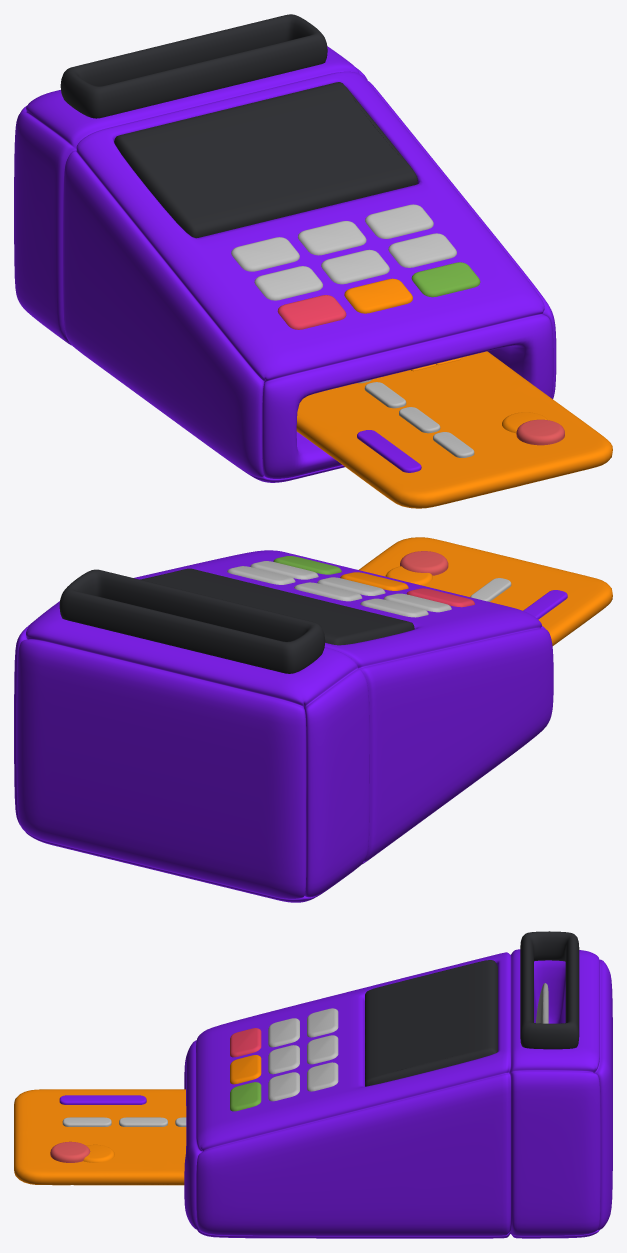
Rendered from secured-payment-animated-3d-icon-477821294128.glb.
The picture shows the model from 3 angles, top to bottom: view 1: azimuth 30°, elevation 25°; view 2: azimuth 150°, elevation 25°; view 3: azimuth 270°, elevation 25°; orthographic projection. The views are drawn at different scales.
Visible parts, largest first — view 1: Terminal, Screen.003, Card.001, Holder, Plane.016, Correction Button.002, Correction Button, Correction Button.001, Button 2.001, Button 5.002, Button 2, Button 5 (+4 smaller); view 2: Terminal, Holder, Card.001, Screen.003, Circle.004, Button 2.001, Button 2, Button 2.002, Correction Button.001, Correction Button.002, Button 5.002, Correction Button (+5 smaller); view 3: Terminal, Card.001, Screen.003, Holder, Plane.016, Plane.017, Correction Button.002, Correction Button.001, Button 2, Button 2.001, Button 2.002, Button 5.001 (+6 smaller).
Part boxes in pixels (x1,y1,x2,y2): Terminal: (14,46,556,482); Screen.003: (114,82,417,238); Card.001: (296,351,612,508); Holder: (60,14,327,118); Plane.016: (358,379,474,457); Correction Button.002: (411,262,480,297); Correction Button: (344,278,412,313); Correction Button.001: (277,295,346,329); Button 2.001: (231,237,299,271); Button 5.002: (388,233,456,267); Button 2: (298,221,366,255); Button 5: (321,249,389,284); Terminal: (14,550,553,902); Holder: (59,569,325,673); Card.001: (359,537,612,645); Screen.003: (140,568,414,645); Circle.004: (400,551,448,575); Button 2.001: (360,598,428,617); Button 2: (294,582,362,601); Button 2.002: (227,566,295,584); Correction Button.001: (406,588,474,607); Correction Button.002: (273,556,341,574); Button 5.002: (250,561,318,579); Correction Button: (340,572,408,590); Terminal: (184,949,612,1238); Card.001: (14,1089,186,1185); Screen.003: (365,960,497,1086); Holder: (520,931,579,1049); Plane.016: (62,1117,186,1126); Plane.017: (59,1095,146,1104); Correction Button.002: (230,1082,261,1111); Correction Button.001: (230,1028,261,1057); Button 2: (307,1035,338,1064); Button 2.001: (307,1008,338,1037); Button 2.002: (307,1062,338,1091); Button 5.001: (268,1018,299,1047).
Size of what is drawn, in the model's own units: 1.4 by 1.08 by 2.79.
